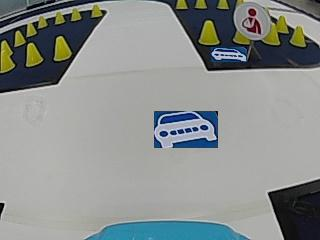cone: (198, 19, 220, 46), (0, 40, 15, 71), (53, 36, 71, 61), (25, 43, 43, 66), (263, 23, 279, 45), (291, 26, 306, 47), (14, 30, 26, 45), (90, 4, 102, 18), (70, 8, 82, 21), (26, 22, 37, 35), (54, 11, 65, 24), (37, 15, 48, 27), (216, 0, 229, 10), (175, 0, 188, 10), (195, 0, 207, 9)
patient: (233, 2, 264, 38)
